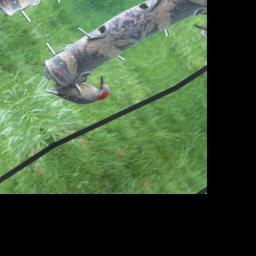Woodpecker: (43, 62, 115, 120)
